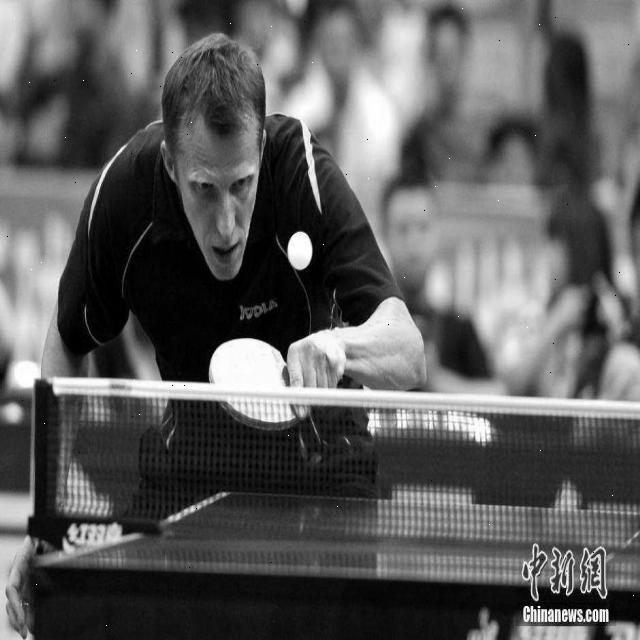ping-pong-ball: (284, 224, 316, 276)
